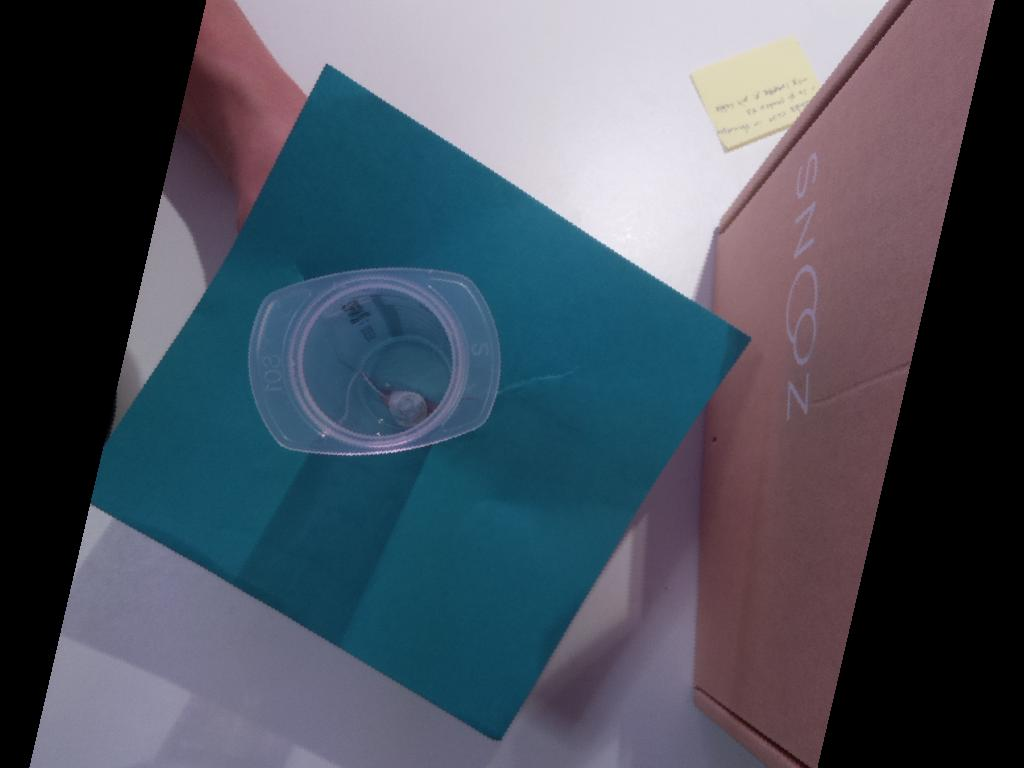clean: (246, 265, 502, 455)
